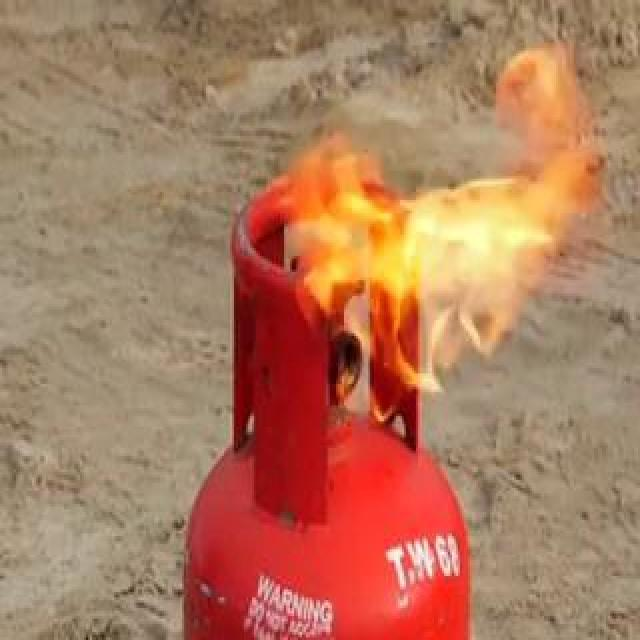Fire: (270, 20, 586, 455)
